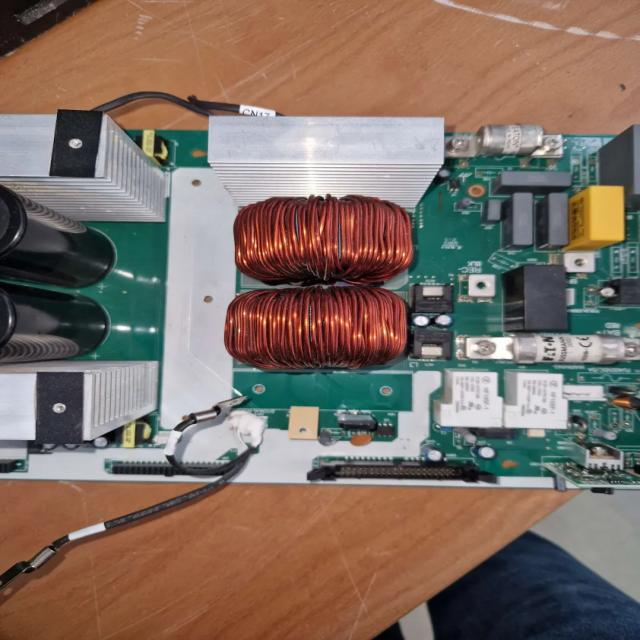A: (232, 193, 413, 286), (225, 286, 408, 371)
B: (466, 336, 639, 364), (446, 124, 563, 158)
G: (211, 118, 445, 204), (2, 114, 168, 223), (1, 364, 159, 438)
